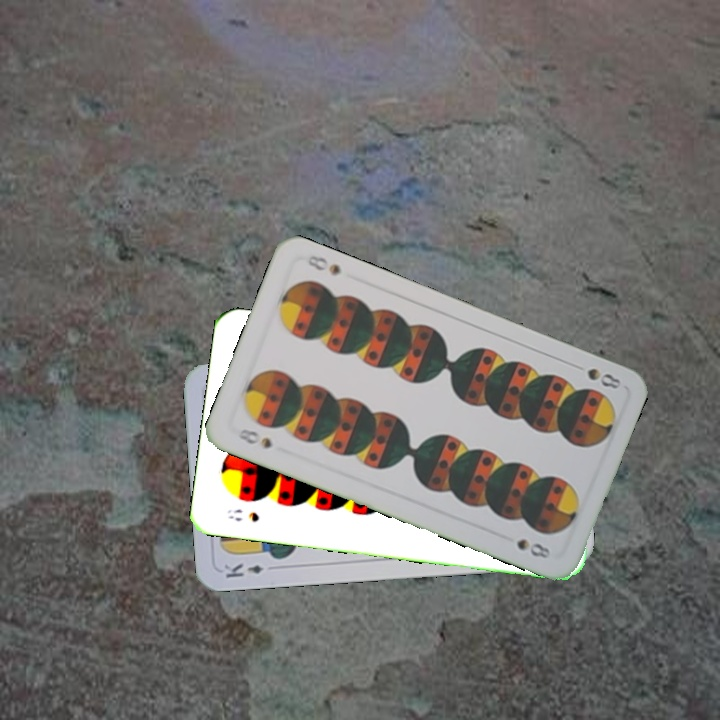EK: (220, 560, 266, 581)
S8: (233, 424, 275, 452), (583, 364, 624, 392), (223, 505, 262, 524)
